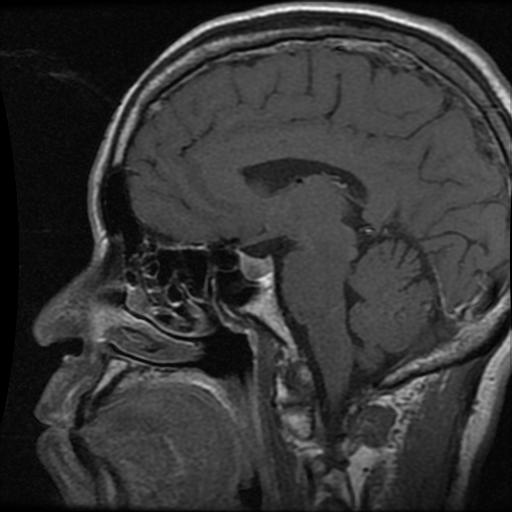Pituirity_tumour: (239, 256, 273, 279)
